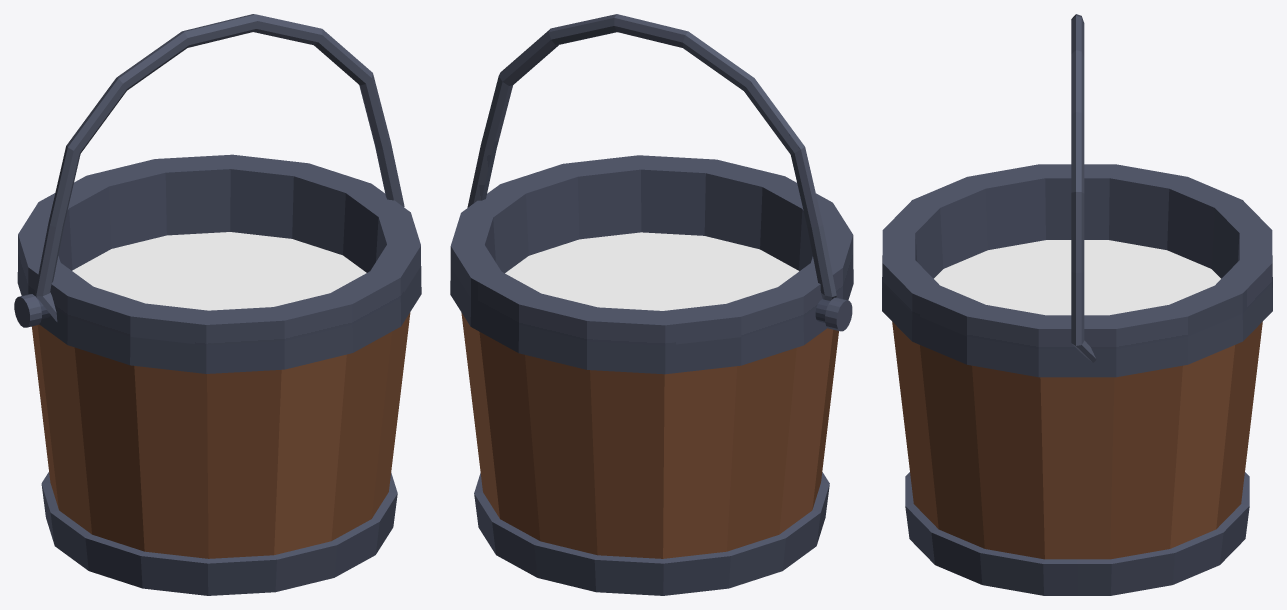
File: W.vedro_model.gltf
3 renders of one model, left to right at view 1: azimuth 30°, elevation 25°; view 2: azimuth 150°, elevation 25°; view 3: azimuth 270°, elevation 25°, orthographic.
Visible parts, largest first — view 1: torus, cylinder; view 2: torus, cylinder; view 3: torus, cylinder.
Boxes of the visible parts, bbox=[...] form: torus: bbox=[14, 14, 421, 595]; cylinder: bbox=[72, 232, 366, 310]; torus: bbox=[450, 14, 853, 595]; cylinder: bbox=[505, 232, 798, 310]; torus: bbox=[882, 14, 1272, 595]; cylinder: bbox=[934, 240, 1220, 315].
Bounding box in the file's own units: 1.22 × 1.53 × 1.1.
2 materials, 2 textured.
